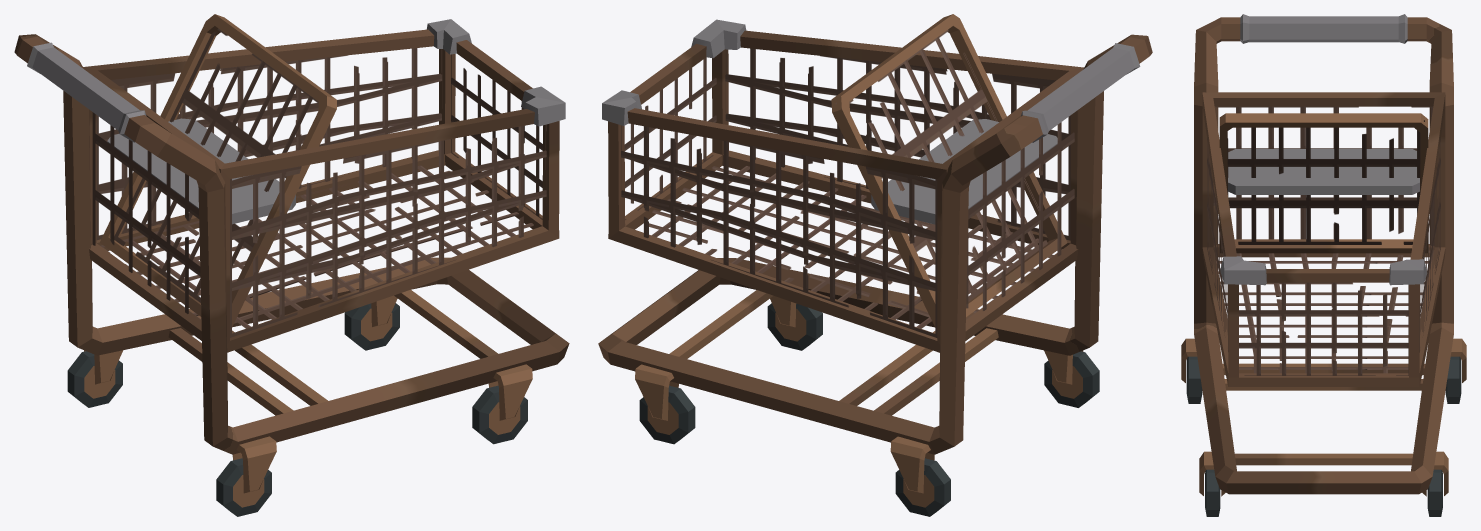
The model's file is apoc_SM_Prop_ShoppingCart_01.gltf.
3 views of the same model, side by side, from view 1: azimuth 30°, elevation 25°; view 2: azimuth 150°, elevation 25°; view 3: azimuth 270°, elevation 25° (orthographic). The views are drawn at different scales.
Parts seen in each view (by area): view 1: SM_Prop_ShoppingCart_01; view 2: SM_Prop_ShoppingCart_01; view 3: SM_Prop_ShoppingCart_01.
Boxes of the visible parts, x1=… form: SM_Prop_ShoppingCart_01: x1=14, y1=14, x2=569, y2=516; SM_Prop_ShoppingCart_01: x1=598, y1=14, x2=1152, y2=516; SM_Prop_ShoppingCart_01: x1=1181, y1=14, x2=1466, y2=516.
Bounding box in the file's own units: 1.36 × 1.18 × 0.876.
Materials: 2 (2 with a texture image).
